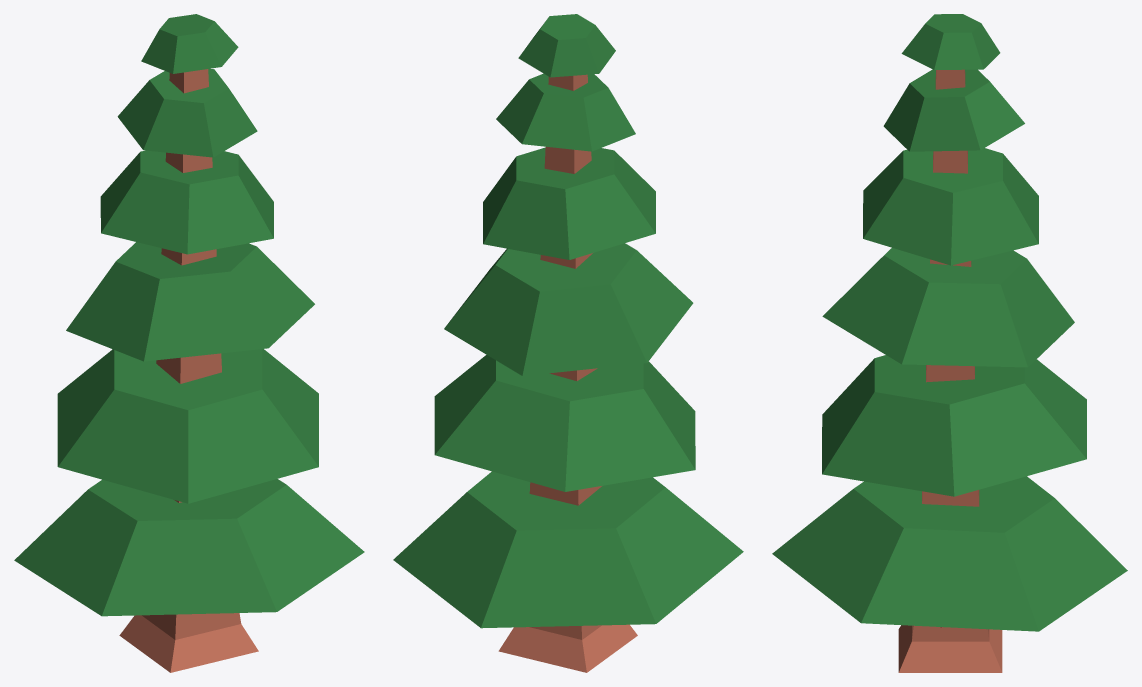
The model's file is tree_pineRoundB.glb.
3 views of the same model, side by side, from view 1: azimuth 30°, elevation 25°; view 2: azimuth 150°, elevation 25°; view 3: azimuth 270°, elevation 25° (orthographic).
Visible parts, largest first — view 1: tree_pineRoundB; view 2: tree_pineRoundB; view 3: tree_pineRoundB.
Boxes of the visible parts, left/top/right/bottom form: tree_pineRoundB: left=14, top=14, right=364, bottom=672; tree_pineRoundB: left=393, top=14, right=743, bottom=672; tree_pineRoundB: left=772, top=14, right=1127, bottom=672.
Size of the model in its own units: 0.5322 by 1.2 by 0.6132.
